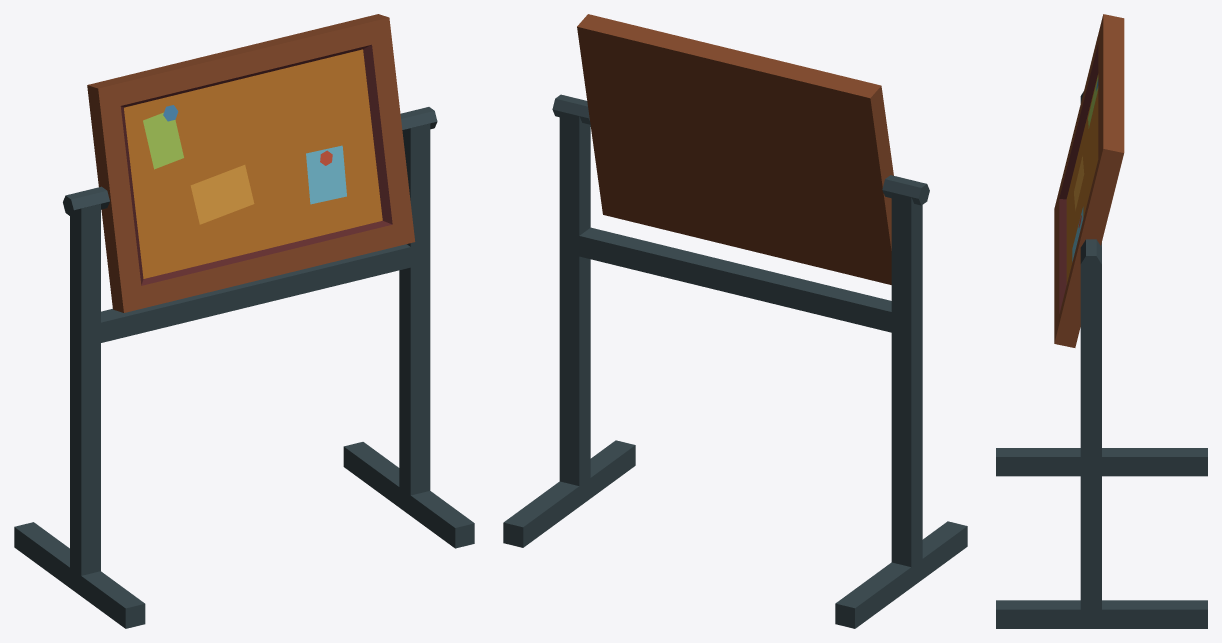
Rendered from BulletinBoard2.fbx.
3 views of the same model, side by side, from view 1: azimuth 30°, elevation 25°; view 2: azimuth 150°, elevation 25°; view 3: azimuth 270°, elevation 25° (orthographic). The views are drawn at different scales.
Visible parts, largest first — view 1: BulletinBoard2; view 2: BulletinBoard2; view 3: BulletinBoard2.
Part boxes in pixels (<box>): BulletinBoard2: <box>14,14,474,628</box>; BulletinBoard2: <box>503,14,967,628</box>; BulletinBoard2: <box>996,14,1207,628</box>.
Bounding box in the file's own units: 98.57 × 127 × 52.38.
